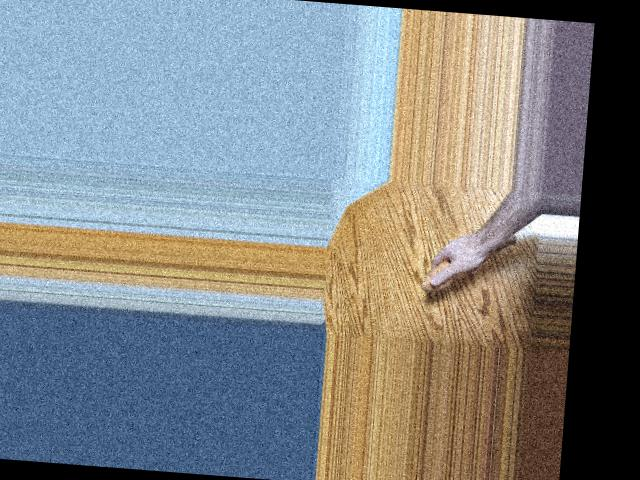sweet_potato: (418, 229, 518, 300)
